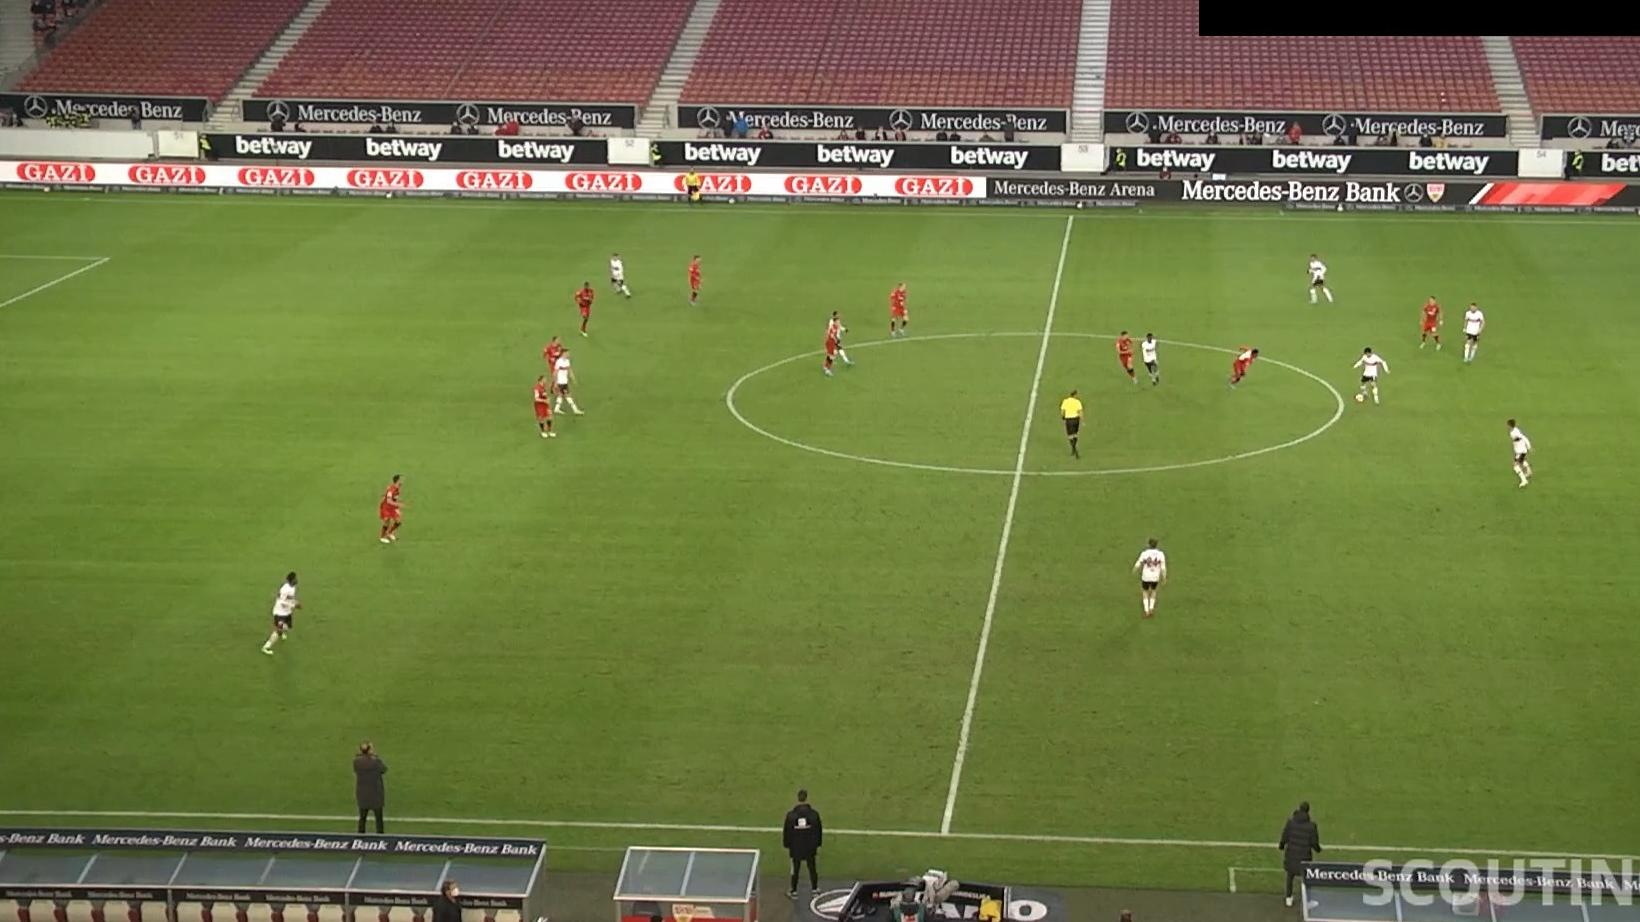ball: (1353, 392, 1366, 405)
